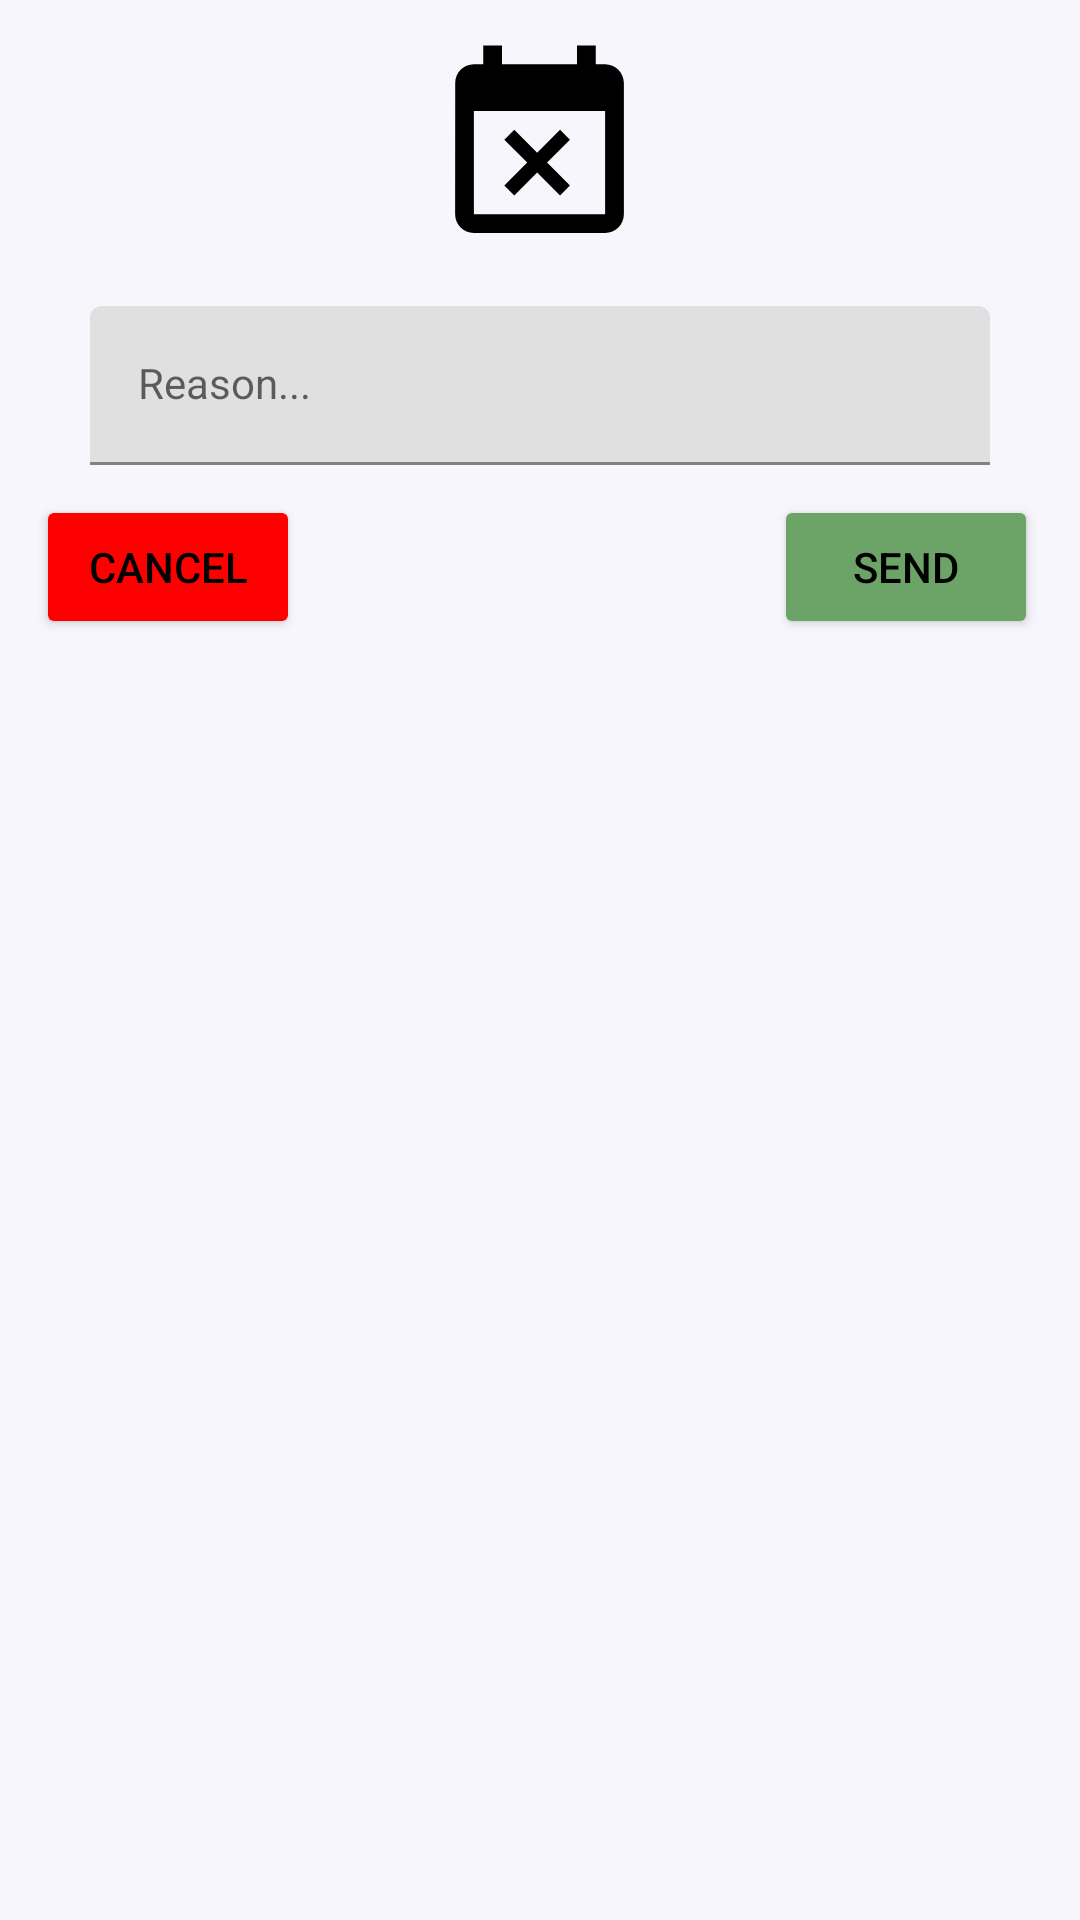

Where to tap for icons on this 1080×1920 app screen, as (x=x, y=y):
event busy: (x=539, y=139)
